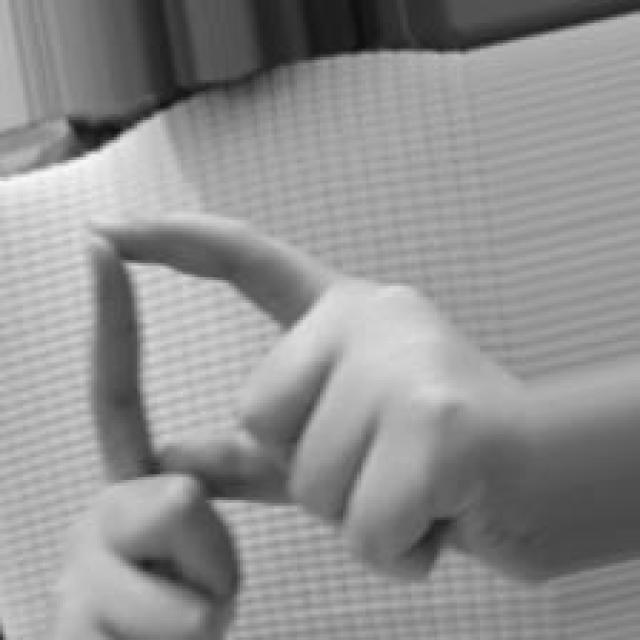D: (74, 208, 488, 640)
